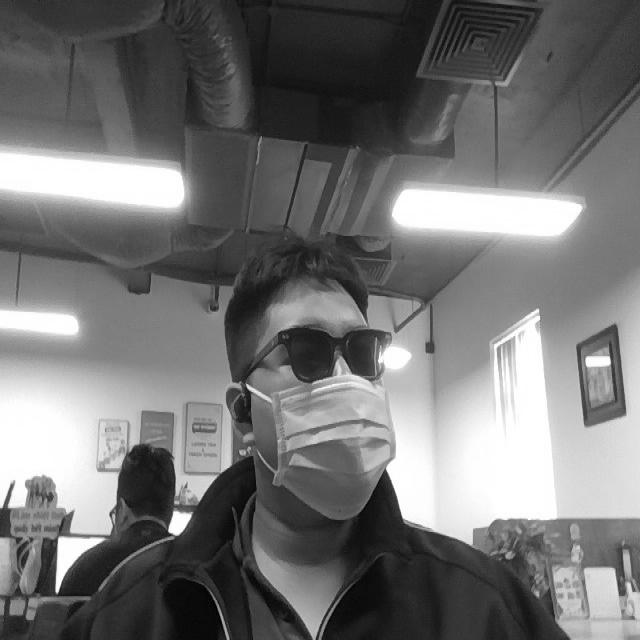fake: (259, 373, 401, 524), (253, 320, 393, 388)
